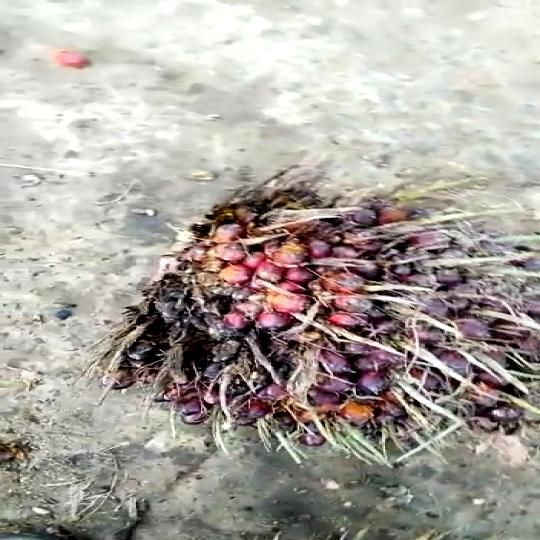masak: (96, 151, 540, 474)
